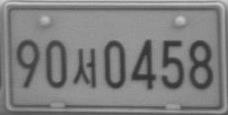0: (44, 38, 68, 88), (102, 39, 126, 89)
4: (131, 38, 156, 90)
5: (160, 40, 185, 89)
8: (188, 39, 213, 90)
9: (15, 38, 41, 88)
서: (72, 47, 96, 88)
